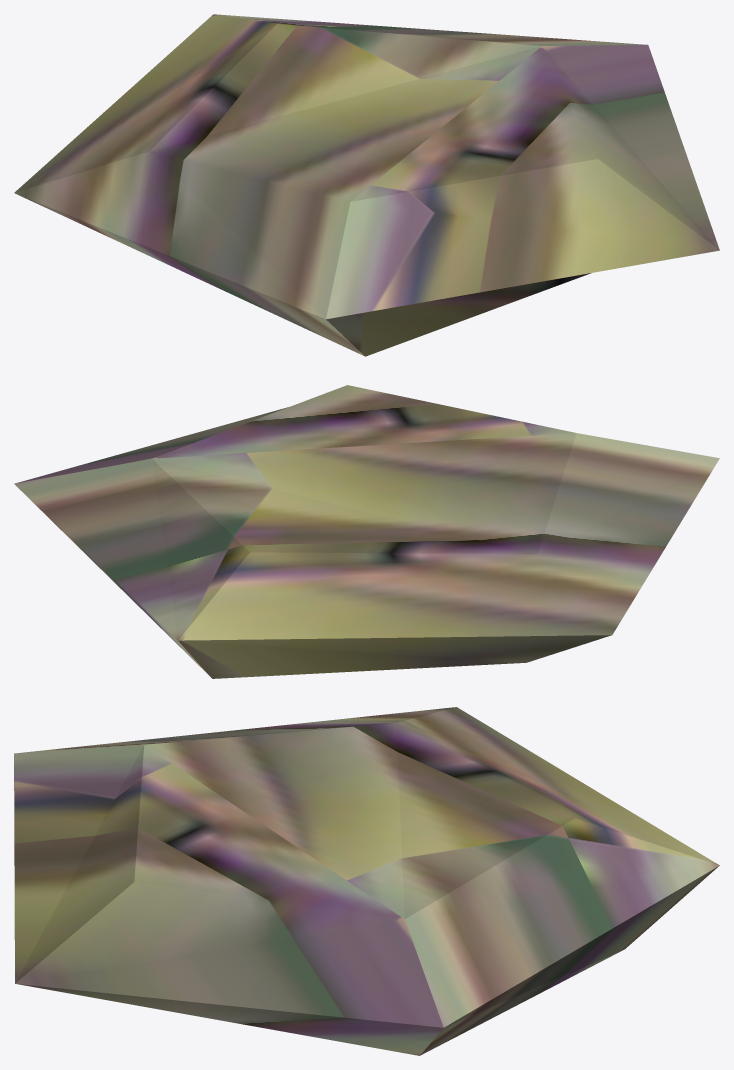
Rendered from PlateTree_1_Plate_7.gltf.
3 renders of one model, top to bottom at view 1: azimuth 30°, elevation 25°; view 2: azimuth 150°, elevation 25°; view 3: azimuth 270°, elevation 25°, orthographic. The views are drawn at different scales.
Parts seen in each view (by area): view 1: PlateTree_1_Plate_7; view 2: PlateTree_1_Plate_7; view 3: PlateTree_1_Plate_7.
Boxes of the visible parts, bbox=[...] form: PlateTree_1_Plate_7: bbox=[14, 14, 719, 356]; PlateTree_1_Plate_7: bbox=[14, 385, 719, 678]; PlateTree_1_Plate_7: bbox=[14, 707, 719, 1055].
Size of the model in its own units: 1.08 by 0.2086 by 1.01.
Materials: 1 (1 with a texture image).
